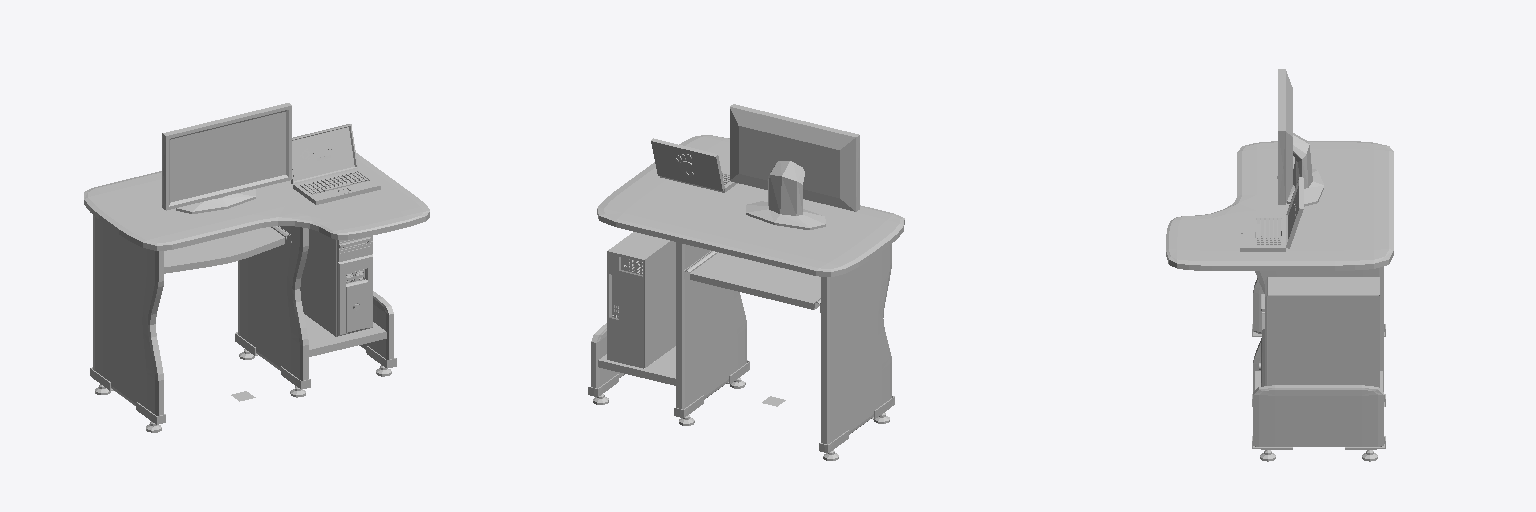
File: Gaming Desk.obj
3 renders of one model, left to right at view 1: azimuth 30°, elevation 25°; view 2: azimuth 150°, elevation 25°; view 3: azimuth 270°, elevation 25°, orthographic.
Parts seen in each view (by area): view 1: Box01, Box02, Box03, sweethome3d_window_pane, Box018, Box12, ecran.001, dalle, Box05, Box04, clavier, socle; view 2: Box01, Box02, ecran.001, Box03, Box018, Box12, socle, ecran, Box05, Box04; view 3: Box01, Box018, Box04, ecran.001, Box03, socle, clavier.
Boxes of the visible parts, <box> form: Box01: <box>84,153,429,250</box>; Box02: <box>93,215,163,415</box>; Box03: <box>238,226,308,380</box>; sweethome3d_window_pane: <box>170,112,285,202</box>; Box018: <box>300,229,372,336</box>; Box12: <box>164,227,284,273</box>; ecran.001: <box>162,103,291,210</box>; dalle: <box>292,127,354,180</box>; Box05: <box>304,314,386,356</box>; Box04: <box>359,291,393,359</box>; clavier: <box>293,169,380,204</box>; socle: <box>176,189,255,213</box>; Box01: <box>597,135,904,276</box>; Box02: <box>821,244,891,444</box>; ecran.001: <box>730,104,859,211</box>; Box03: <box>676,242,746,409</box>; Box018: <box>607,232,675,368</box>; Box12: <box>690,252,820,309</box>; socle: <box>746,161,825,229</box>; ecran: <box>651,138,724,190</box>; Box05: <box>598,346,675,385</box>; Box04: <box>591,323,624,388</box>; Box01: <box>1166,141,1393,270</box>; Box018: <box>1261,277,1379,387</box>; Box04: <box>1253,385,1383,446</box>; ecran.001: <box>1278,69,1292,204</box>; Box03: <box>1253,266,1383,391</box>; socle: <box>1287,133,1323,206</box>; clavier: <box>1240,216,1285,251</box>.
Size of the model in its own units: 2.34 by 2.47 by 1.79.